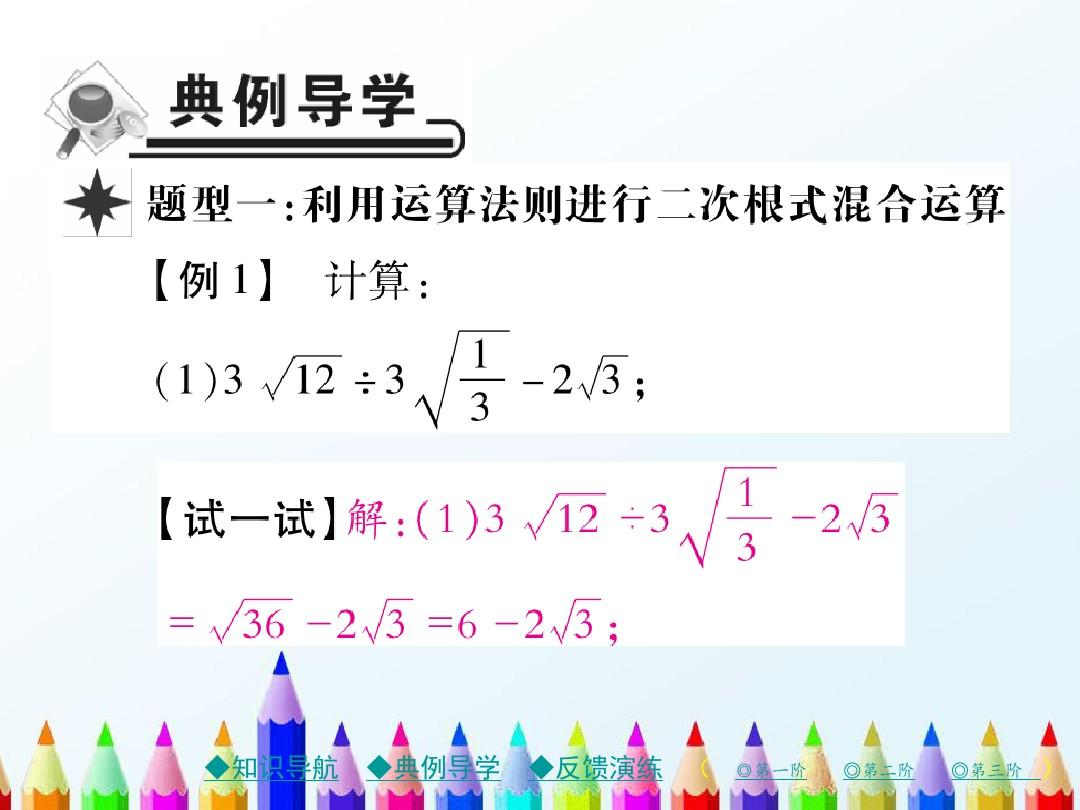division: (723, 509, 773, 526)
sqrt: (678, 459, 783, 571), (421, 328, 513, 432), (523, 488, 612, 544), (262, 349, 342, 406), (214, 595, 295, 645), (846, 491, 901, 546), (552, 594, 604, 647), (360, 596, 413, 645), (577, 351, 629, 399)
